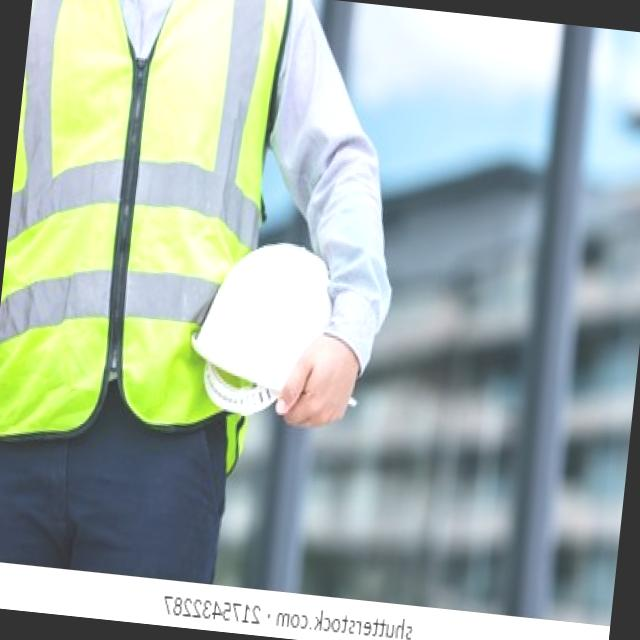vest: (0, 0, 305, 485)
